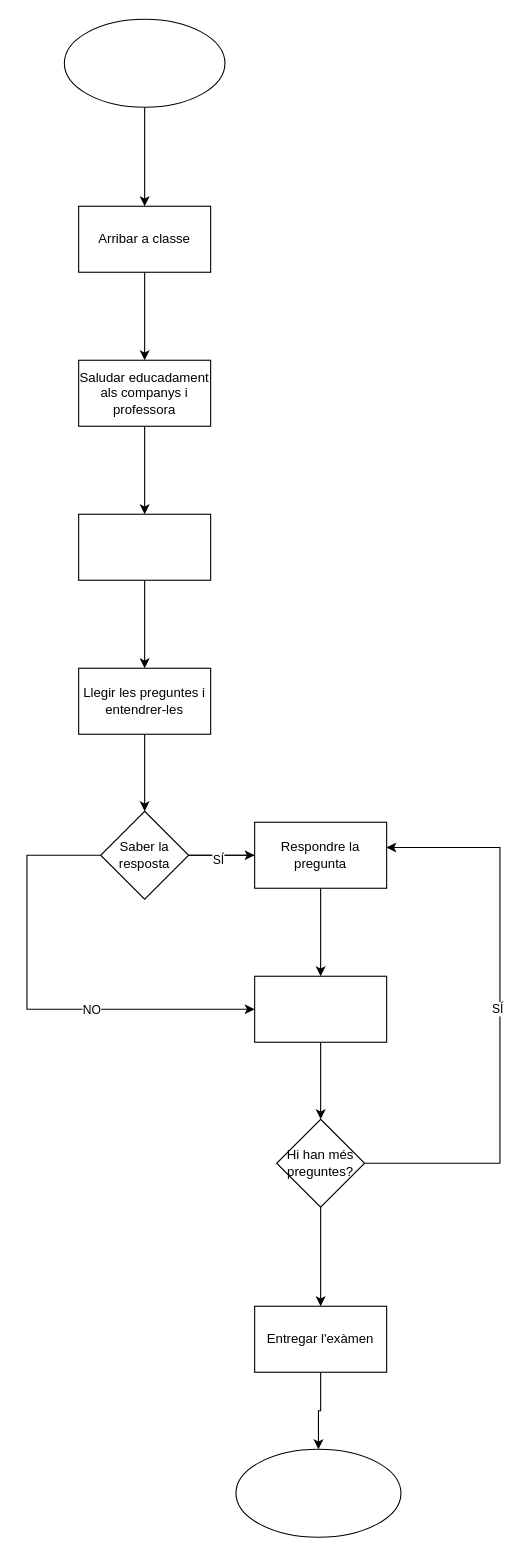
The diagram is 528 pixels wide and 1557 high, and some of its shapes have lost their labels. The box of each missing label's shape, as (x1, y1, x2, y2) in pixels:
Final de l'algoritme: (235, 1448, 401, 1537)
INICI_ferExamenJaume: (63, 18, 225, 107)
Passar a una altre pregunta: (254, 975, 387, 1042)
Preparar el material per fer l'exàmen: (78, 513, 211, 580)
